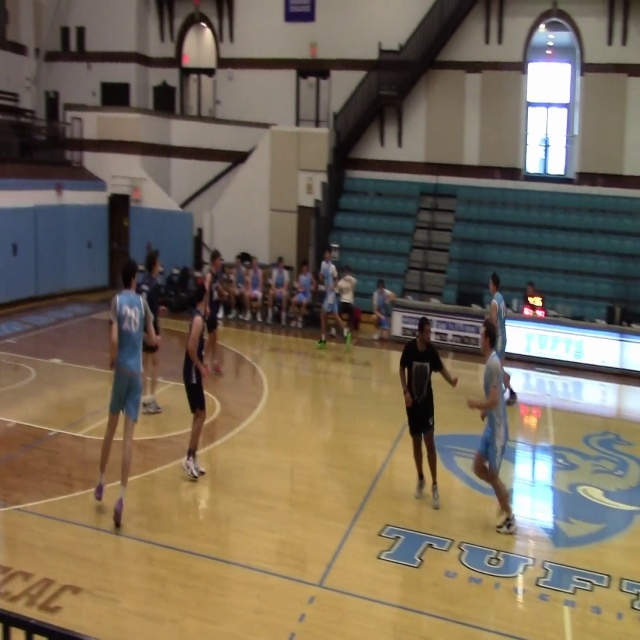Basketball: (410, 361, 430, 400), (473, 451, 492, 481)
